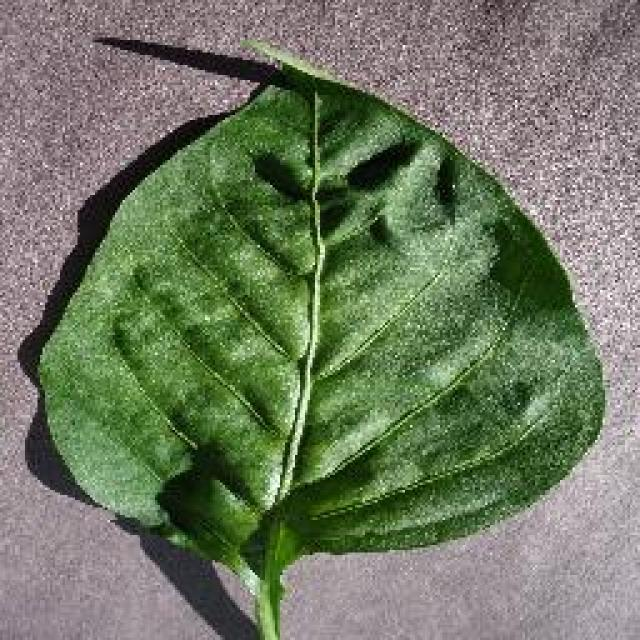Chilli_Healthy: (32, 32, 608, 638)
